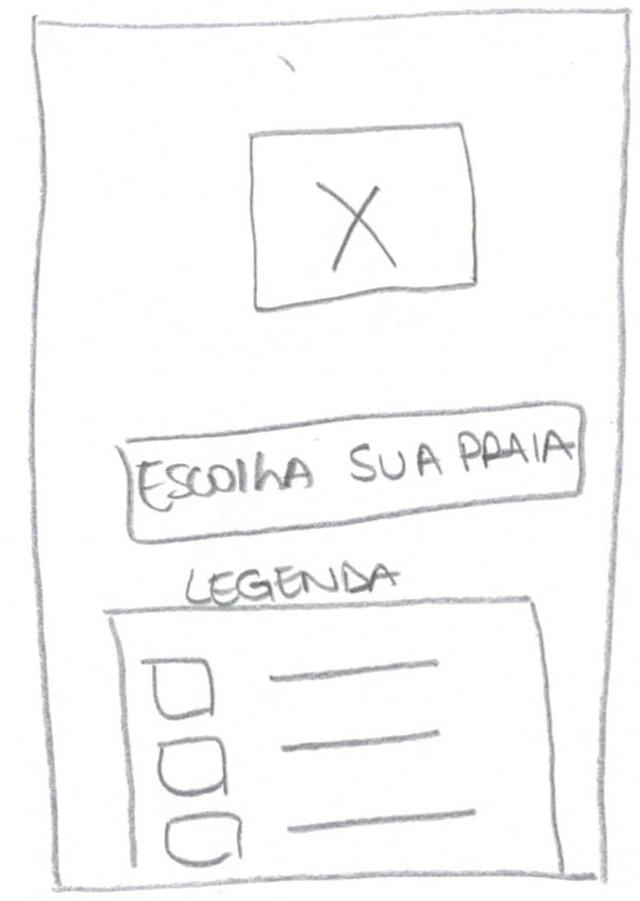Button: (123, 403, 587, 544)
CheckBox: (142, 648, 441, 723), (156, 724, 442, 798), (163, 806, 478, 866)
Image: (253, 121, 477, 315)
Label: (182, 557, 401, 607)
Screen: (24, 13, 626, 887)
